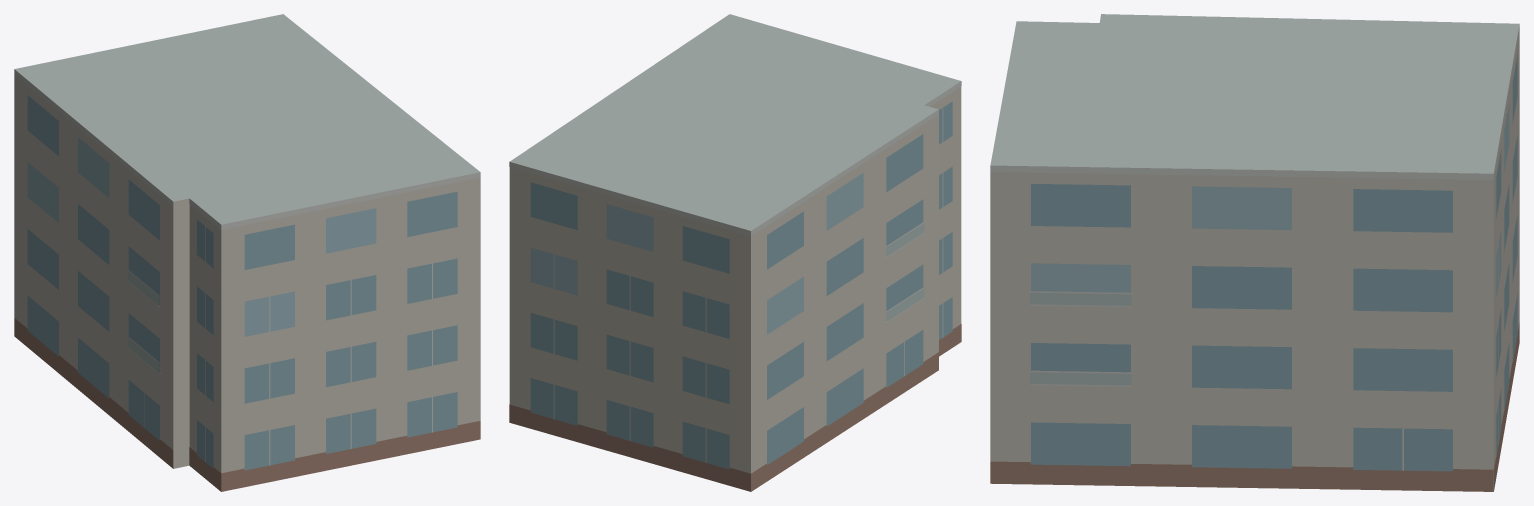
File: survey-upis-32500710.glb
3 views of the same model, side by side, from view 1: azimuth 30°, elevation 25°; view 2: azimuth 150°, elevation 25°; view 3: azimuth 270°, elevation 25° (orthographic). The views are drawn at different scales.
Visible parts, largest first — view 1: survey-upis-32500710.tmp; view 2: survey-upis-32500710.tmp; view 3: survey-upis-32500710.tmp.
Boxes of the visible parts, x1,y1,x2,y2 form: survey-upis-32500710.tmp: [14, 14, 480, 491]; survey-upis-32500710.tmp: [509, 14, 961, 491]; survey-upis-32500710.tmp: [990, 14, 1519, 491].
Size of the model in its own units: 13.14 by 12.2 by 18.4.
